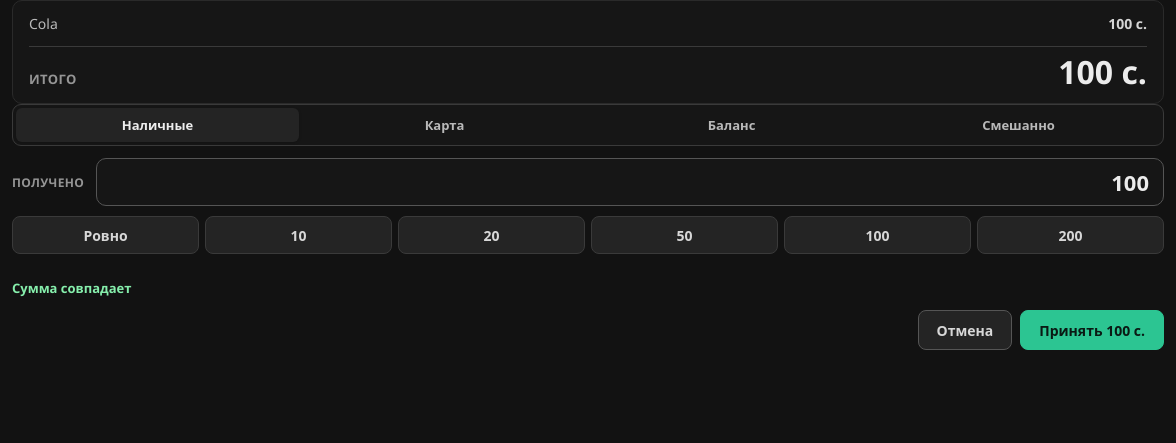
it: PaymentDialog split method choices › renders each method once and disables Add after all methods are selected
The image size is (1176, 443).
Click the tab "Смешанно" at (1018, 125), box [877,108,1160,142]
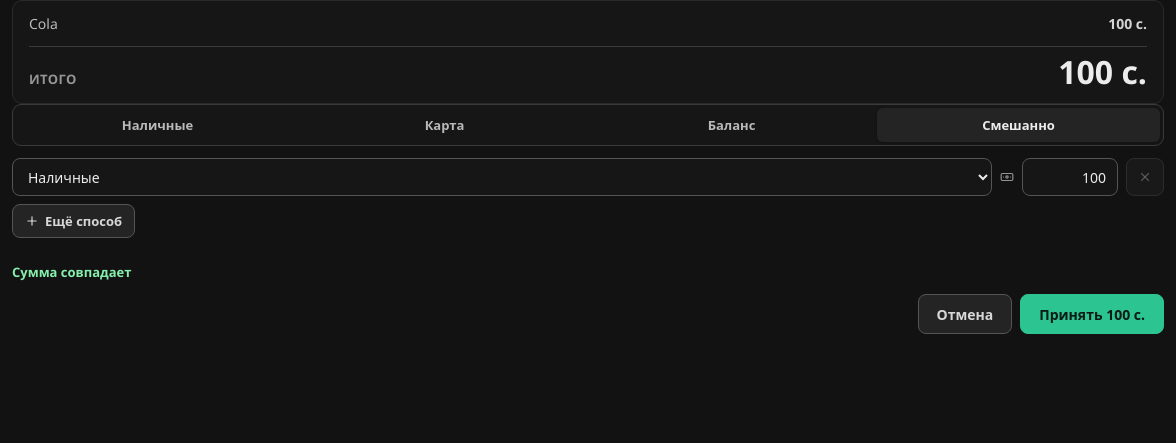
Click the button "Ещё способ" at (74, 221), box [12,204,135,238]
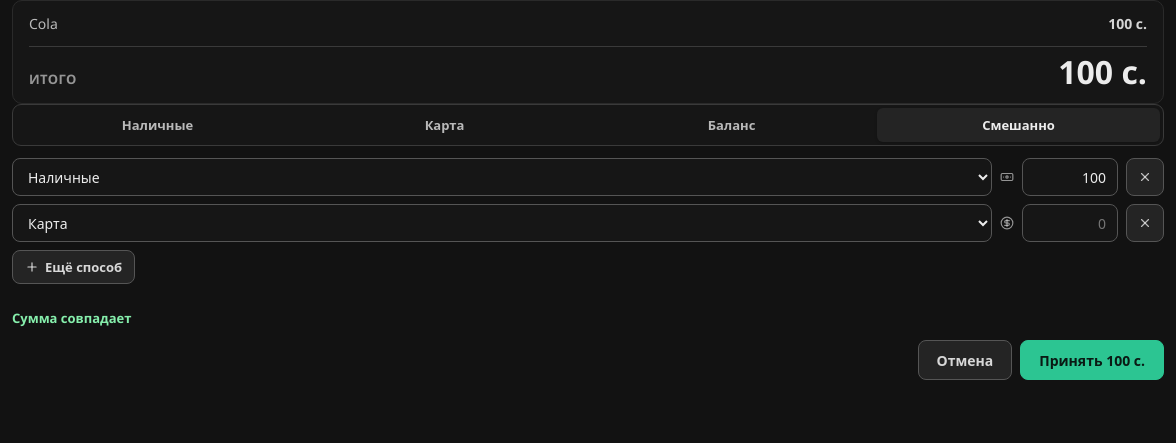
Click the button "Ещё способ" at (74, 267), box [12,250,135,284]
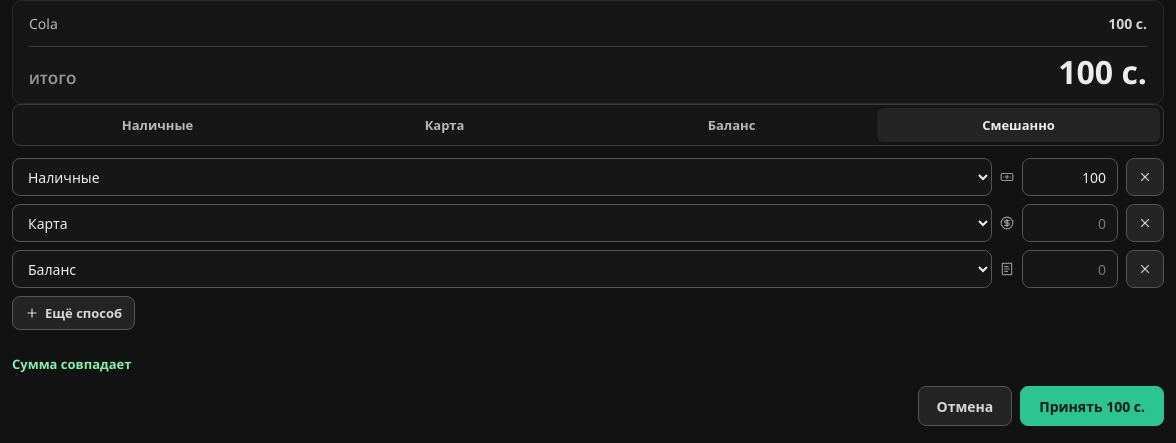
Check: the number of dropdowns named "Способ оплаты" is 3, box [12,158,992,196]; [12,204,992,242]; [12,250,992,288]
Check: the button "Ещё способ" is disabled, box [12,296,135,330]
